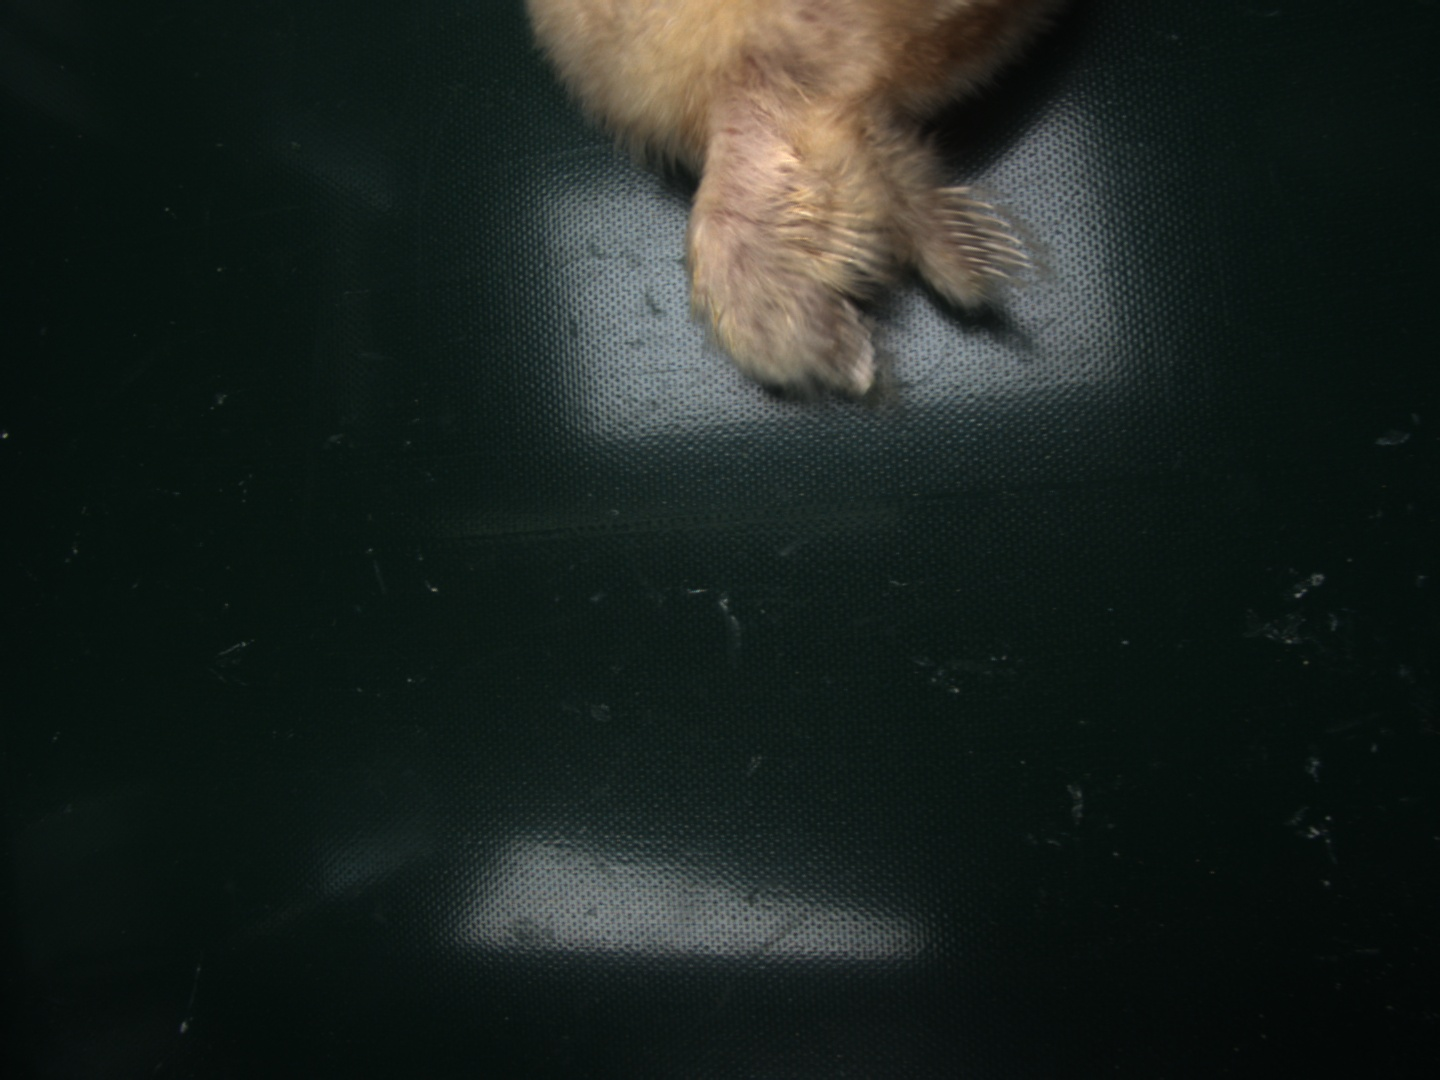female: (929, 186, 1030, 279)
